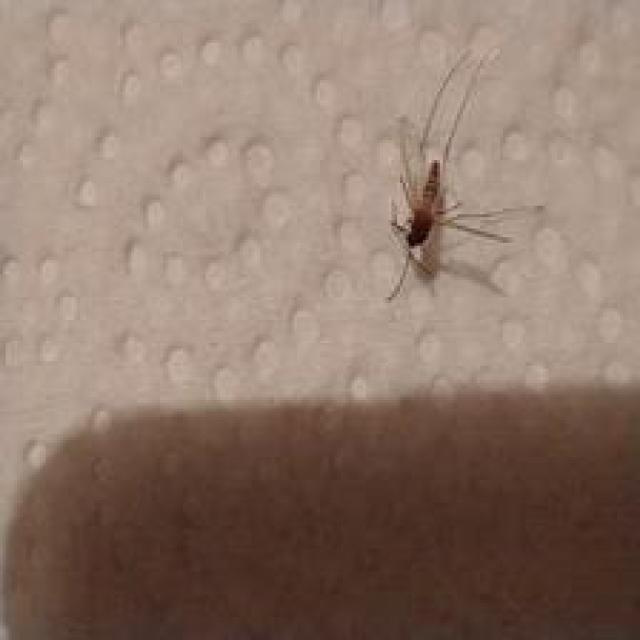Culex: (383, 43, 546, 303)
